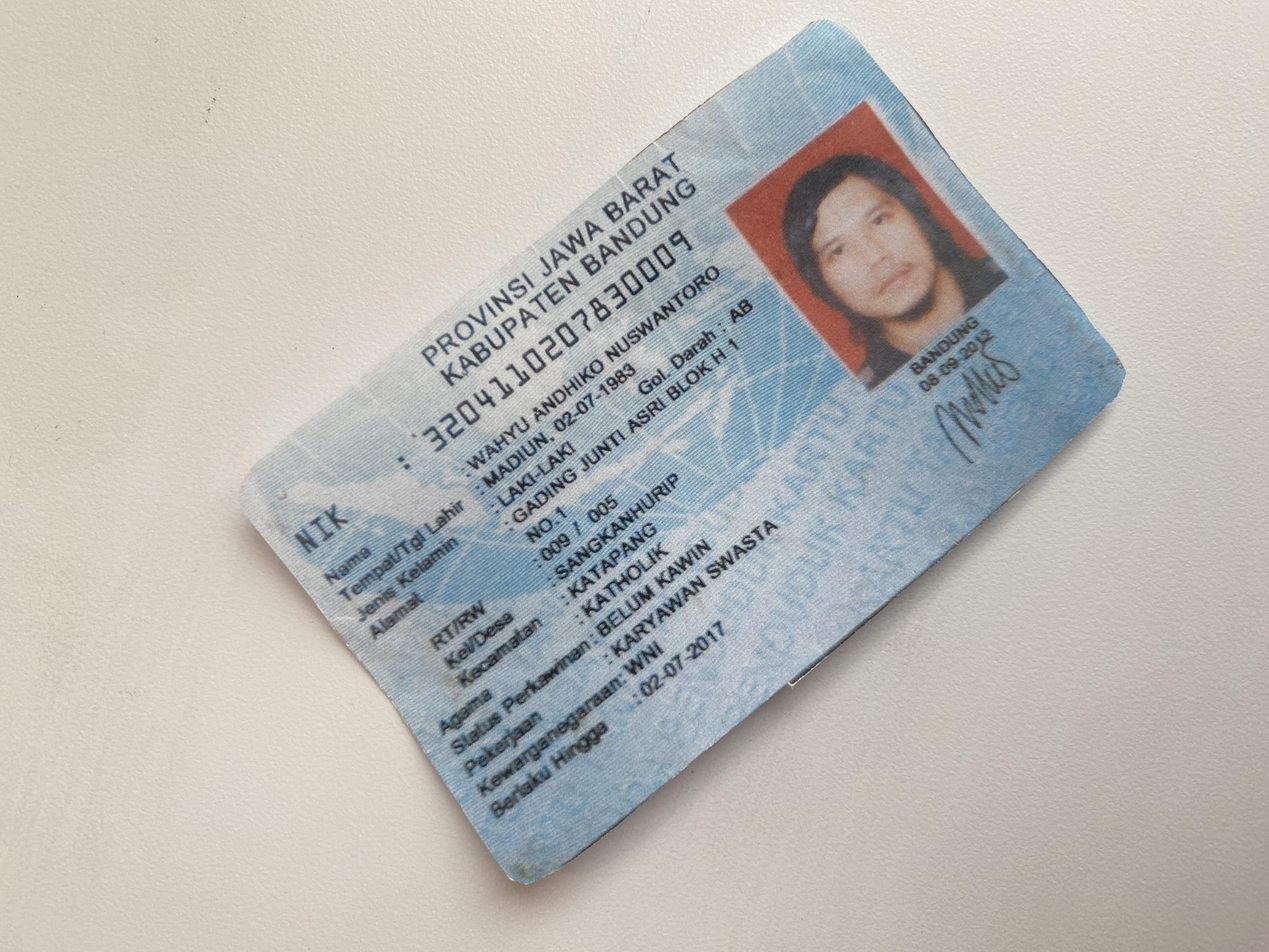ID-card: (55, 178, 1247, 853)
